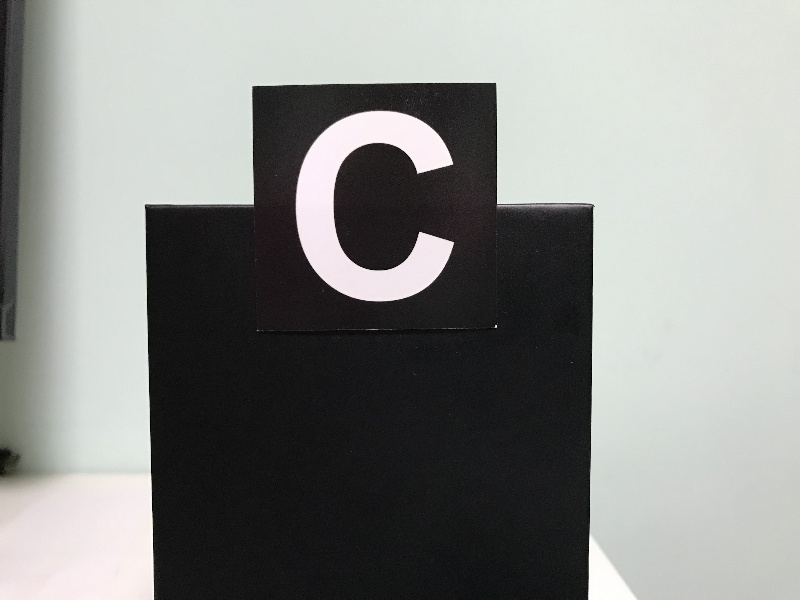C-13: (258, 90, 497, 326)
